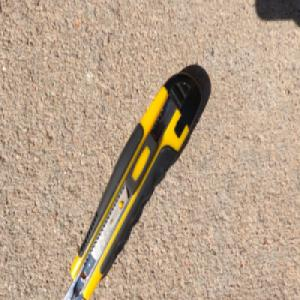Cutter: (62, 68, 203, 300)
